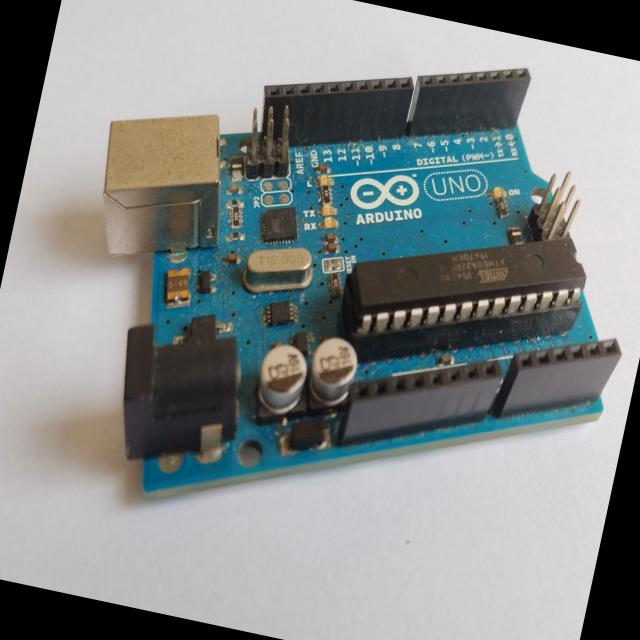arduino: (25, 0, 640, 615)
